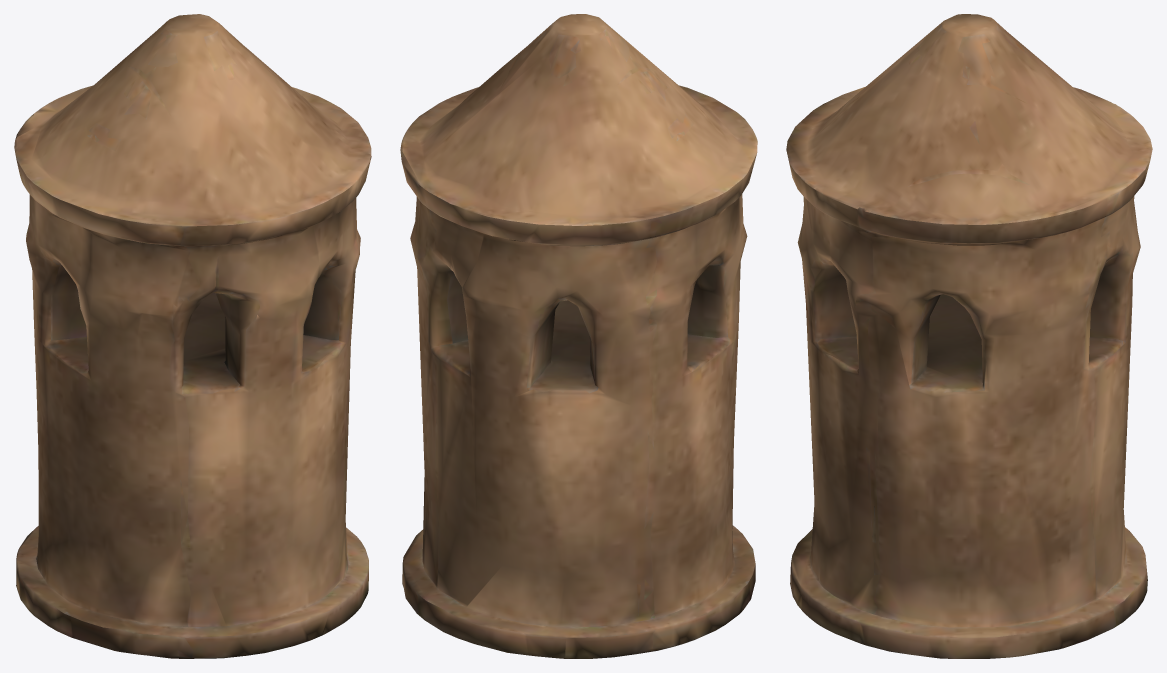
The model's file is chipped-sandstone-turret-top-v001.glb.
3 renders of one model, left to right at view 1: azimuth 30°, elevation 25°; view 2: azimuth 150°, elevation 25°; view 3: azimuth 270°, elevation 25°, orthographic.
Visible parts, largest first — view 1: chipped-sandstone-turret-top; view 2: chipped-sandstone-turret-top; view 3: chipped-sandstone-turret-top.
Part boxes in pixels (<box>): chipped-sandstone-turret-top: <box>14,14,371,658</box>; chipped-sandstone-turret-top: <box>400,14,757,658</box>; chipped-sandstone-turret-top: <box>786,14,1152,658</box>.
Size of the model in its own units: 1.23 by 2.14 by 1.26.
Materials: 1 (1 with a texture image).
